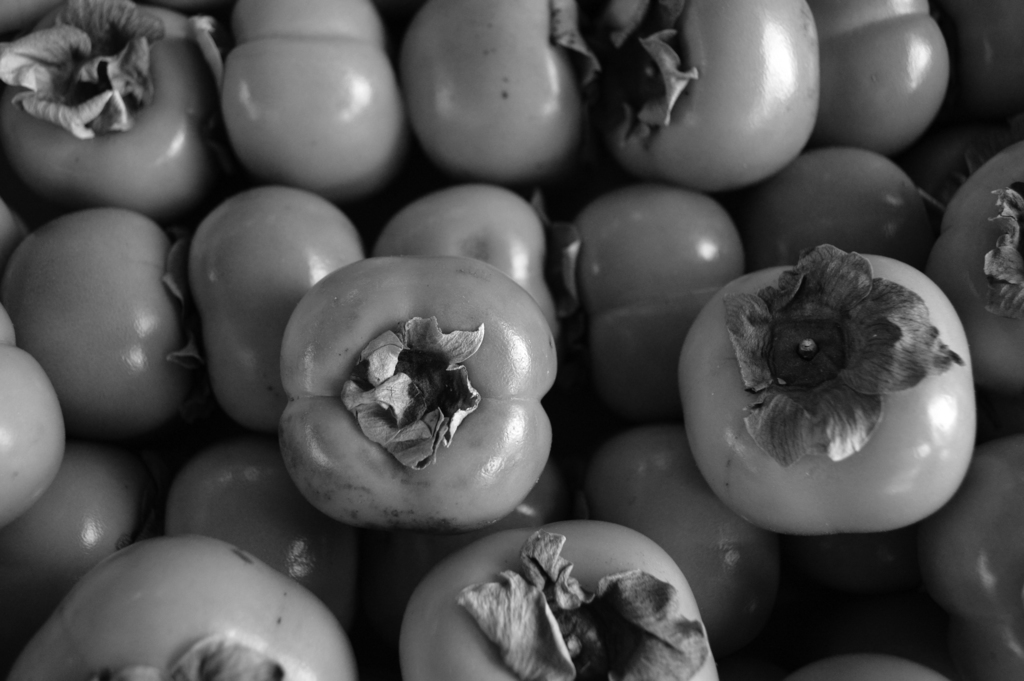Tomato: (671, 240, 976, 535), (270, 221, 567, 523), (163, 182, 377, 434), (393, 518, 722, 680), (6, 536, 361, 680), (0, 0, 220, 220), (576, 428, 776, 649), (562, 184, 746, 421), (603, 0, 822, 195), (7, 203, 186, 439), (396, 0, 597, 181), (225, 0, 407, 194), (373, 184, 566, 339), (172, 444, 350, 611), (928, 139, 1023, 403), (747, 143, 938, 272), (2, 449, 136, 631), (801, 0, 947, 157), (929, 437, 1023, 680), (0, 341, 67, 531)
